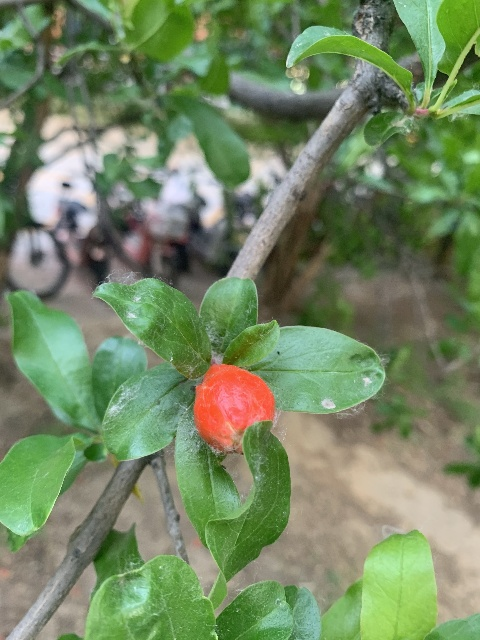bud: (193, 363, 274, 453)
